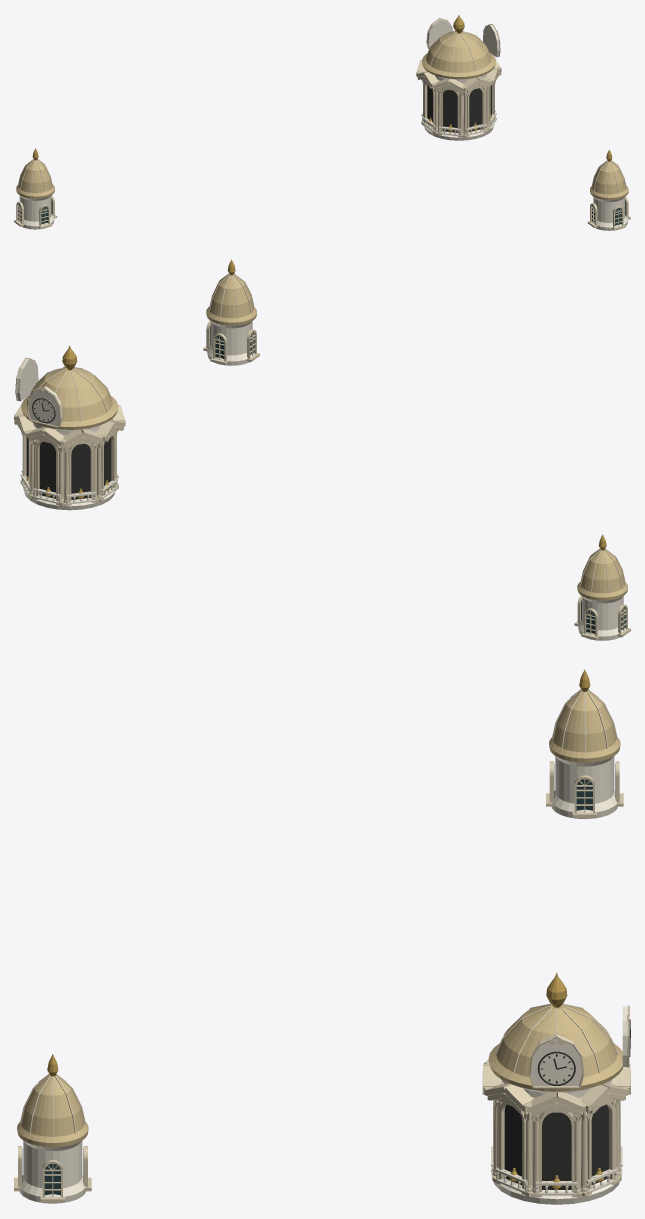
The model's file is KOL_T1_METROPOLITAN__06_Cupolas.fbx.
3 views of the same model, one above another, from view 1: azimuth 30°, elevation 25°; view 2: azimuth 150°, elevation 25°; view 3: azimuth 270°, elevation 25° (orthographic). The views are drawn at different scales.
Parts seen in each view (by area): view 1: KOL_T1_METROPOLITAN__06_Cupolas__KOL_T1_HeritageOchre, KOL_T1_METROPOLITAN__06_Cupolas__KOL_T1_HeritageWhite, KOL_T1_METROPOLITAN__06_Cupolas__KOL_T1_HeritageCream.001, KOL_T1_METROPOLITAN__06_Cupolas__KOL_T1_HeritageDark, KOL_T1_METROPOLITAN__06_Cupolas__KOL_T1_HeritageCream.003, KOL_T1_METROPOLITAN__06_Cupolas__KOL_T1_HeritageCream, KOL_T1_METROPOLITAN__06_Cupolas__KOL_T1_HeritageCream.002, KOL_T1_METROPOLITAN__06_Cupolas__KOL_T1_HeritageGold, KOL_T1_METROPOLITAN__06_Cupolas__KOL_T1_HeritageGlass; view 2: KOL_T1_METROPOLITAN__06_Cupolas__KOL_T1_HeritageOchre, KOL_T1_METROPOLITAN__06_Cupolas__KOL_T1_HeritageWhite, KOL_T1_METROPOLITAN__06_Cupolas__KOL_T1_HeritageCream, KOL_T1_METROPOLITAN__06_Cupolas__KOL_T1_HeritageDark, KOL_T1_METROPOLITAN__06_Cupolas__KOL_T1_HeritageCream.002, KOL_T1_METROPOLITAN__06_Cupolas__KOL_T1_HeritageCream.003, KOL_T1_METROPOLITAN__06_Cupolas__KOL_T1_HeritageCream.001, KOL_T1_METROPOLITAN__06_Cupolas__KOL_T1_HeritageGold; view 3: KOL_T1_METROPOLITAN__06_Cupolas__KOL_T1_HeritageOchre, KOL_T1_METROPOLITAN__06_Cupolas__KOL_T1_HeritageWhite, KOL_T1_METROPOLITAN__06_Cupolas__KOL_T1_HeritageCream.002, KOL_T1_METROPOLITAN__06_Cupolas__KOL_T1_HeritageDark, KOL_T1_METROPOLITAN__06_Cupolas__KOL_T1_HeritageCream.003, KOL_T1_METROPOLITAN__06_Cupolas__KOL_T1_HeritageCream.001, KOL_T1_METROPOLITAN__06_Cupolas__KOL_T1_HeritageCream, KOL_T1_METROPOLITAN__06_Cupolas__KOL_T1_HeritageGold, KOL_T1_METROPOLITAN__06_Cupolas__KOL_T1_HeritageGlass.
Part boxes in pixels (box(x1,y1,x2,y2)): KOL_T1_METROPOLITAN__06_Cupolas__KOL_T1_HeritageOchre: box(16, 31, 628, 199); KOL_T1_METROPOLITAN__06_Cupolas__KOL_T1_HeritageWhite: box(18, 19, 628, 230); KOL_T1_METROPOLITAN__06_Cupolas__KOL_T1_HeritageCream.001: box(416, 71, 496, 137); KOL_T1_METROPOLITAN__06_Cupolas__KOL_T1_HeritageDark: box(427, 85, 491, 132); KOL_T1_METROPOLITAN__06_Cupolas__KOL_T1_HeritageCream.003: box(14, 160, 630, 230); KOL_T1_METROPOLITAN__06_Cupolas__KOL_T1_HeritageCream: box(416, 31, 491, 134); KOL_T1_METROPOLITAN__06_Cupolas__KOL_T1_HeritageCream.002: box(18, 18, 501, 192); KOL_T1_METROPOLITAN__06_Cupolas__KOL_T1_HeritageGold: box(32, 15, 612, 161); KOL_T1_METROPOLITAN__06_Cupolas__KOL_T1_HeritageGlass: box(18, 199, 625, 225); KOL_T1_METROPOLITAN__06_Cupolas__KOL_T1_HeritageOchre: box(21, 274, 627, 600); KOL_T1_METROPOLITAN__06_Cupolas__KOL_T1_HeritageWhite: box(17, 320, 625, 640); KOL_T1_METROPOLITAN__06_Cupolas__KOL_T1_HeritageCream: box(25, 367, 118, 506); KOL_T1_METROPOLITAN__06_Cupolas__KOL_T1_HeritageDark: box(26, 398, 111, 499); KOL_T1_METROPOLITAN__06_Cupolas__KOL_T1_HeritageCream.002: box(14, 357, 625, 640); KOL_T1_METROPOLITAN__06_Cupolas__KOL_T1_HeritageCream.003: box(203, 273, 630, 637); KOL_T1_METROPOLITAN__06_Cupolas__KOL_T1_HeritageCream.001: box(95, 405, 125, 487); KOL_T1_METROPOLITAN__06_Cupolas__KOL_T1_HeritageGold: box(25, 259, 606, 550); KOL_T1_METROPOLITAN__06_Cupolas__KOL_T1_HeritageOchre: box(17, 690, 622, 1147); KOL_T1_METROPOLITAN__06_Cupolas__KOL_T1_HeritageWhite: box(19, 755, 627, 1204); KOL_T1_METROPOLITAN__06_Cupolas__KOL_T1_HeritageCream.002: box(484, 689, 629, 1197); KOL_T1_METROPOLITAN__06_Cupolas__KOL_T1_HeritageDark: box(504, 1019, 630, 1189); KOL_T1_METROPOLITAN__06_Cupolas__KOL_T1_HeritageCream.003: box(14, 761, 596, 1202); KOL_T1_METROPOLITAN__06_Cupolas__KOL_T1_HeritageCream.001: box(482, 1059, 532, 1196); KOL_T1_METROPOLITAN__06_Cupolas__KOL_T1_HeritageCream: box(495, 1003, 630, 1180); KOL_T1_METROPOLITAN__06_Cupolas__KOL_T1_HeritageGold: box(47, 669, 603, 1189); KOL_T1_METROPOLITAN__06_Cupolas__KOL_T1_HeritageGlass: box(22, 764, 615, 1195).
Bounding box in the file's own units: 142 × 32.4 × 88.15.
